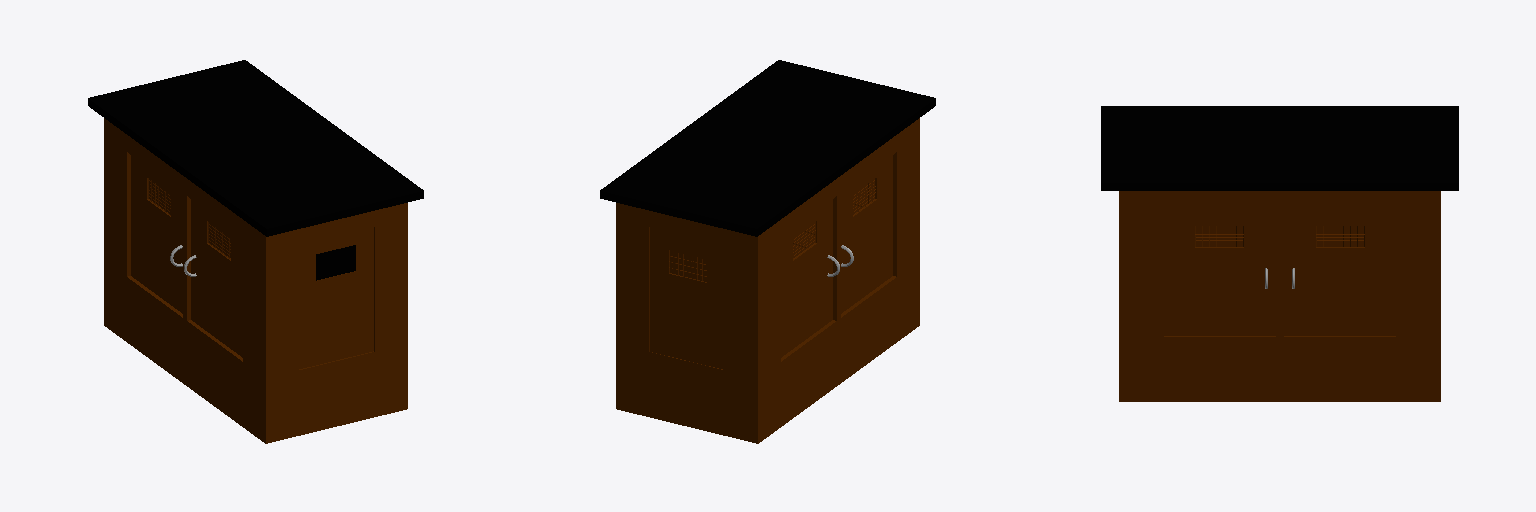
Rendered from smpgnrtxcxc.obj.
The picture shows the model from 3 angles: view 1: azimuth 30°, elevation 25°; view 2: azimuth 150°, elevation 25°; view 3: azimuth 270°, elevation 25°; orthographic projection.
Parts seen in each view (by area): view 1: Cube.001, Cube.034, Cube.033, Cube.038; view 2: Cube.001, Cube.034, Cube.036; view 3: Cube.001, Cube.034.
Part boxes in pixels (x1,y1,x2,y2): Cube.001: (88,60,423,443); Cube.034: (131,155,242,357); Cube.033: (299,227,373,368); Cube.038: (316,245,355,280); Cube.001: (600,60,935,443); Cube.034: (781,155,892,357); Cube.036: (650,227,724,369); Cube.001: (1101,106,1458,401); Cube.034: (1164,212,1395,335).
Bounding box in the file's own units: 4.82 × 6.52 × 9.48.